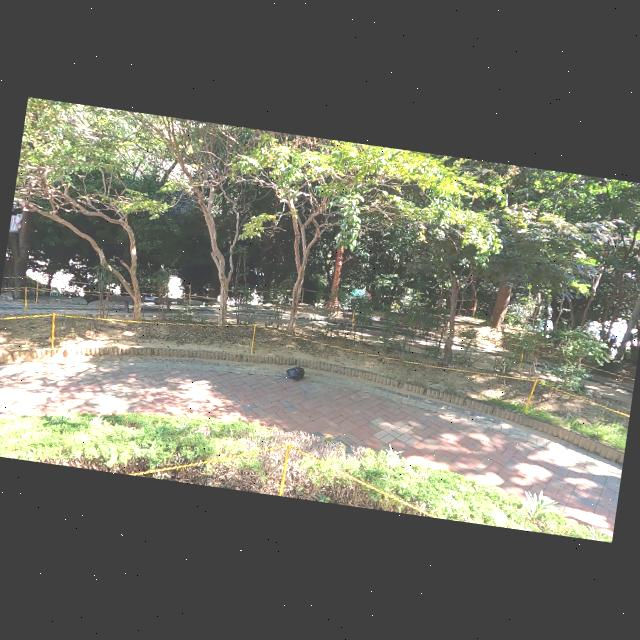trash: (284, 366, 306, 384)
